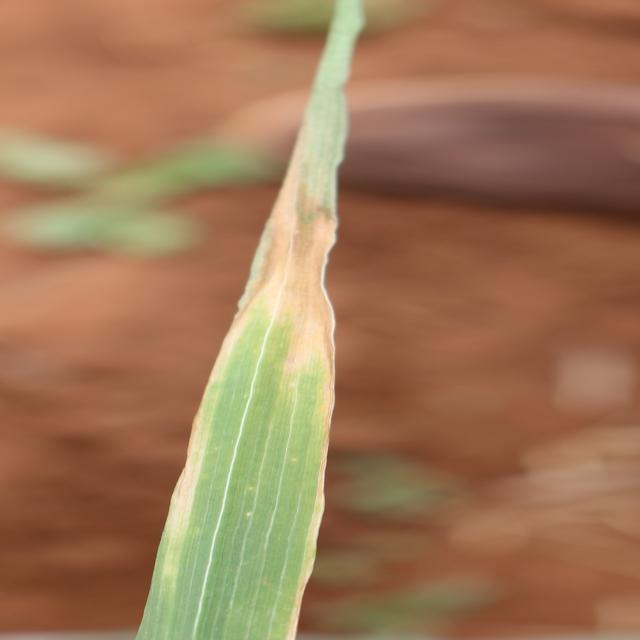Septoria: (132, 1, 364, 638)
